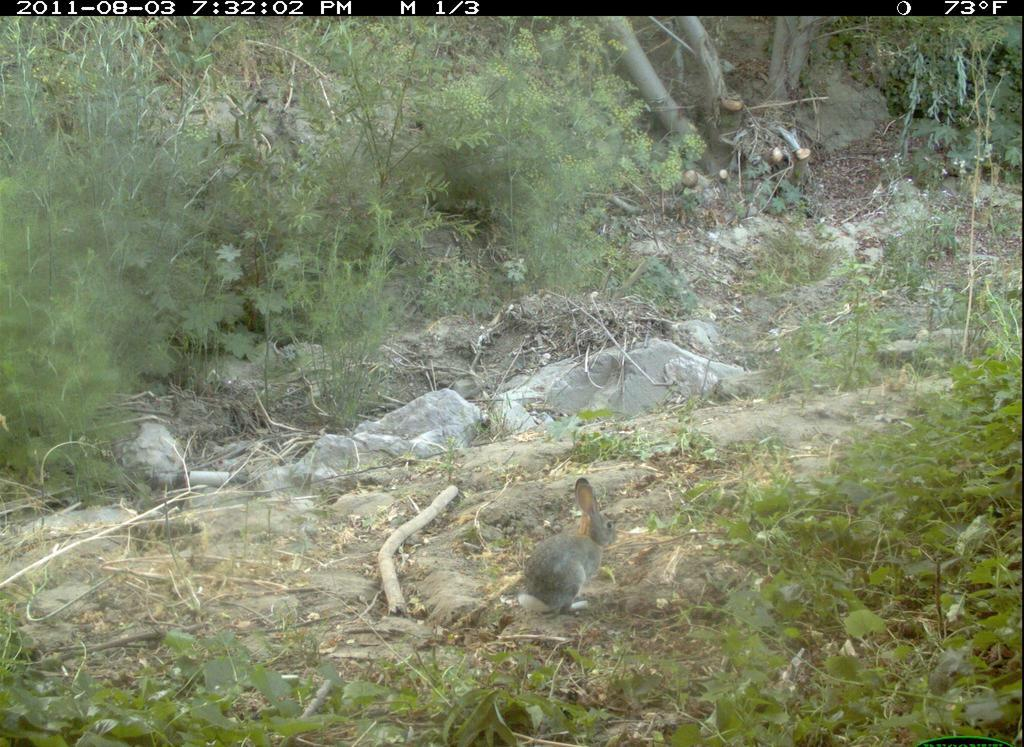rabbit: (504, 466, 628, 632)
